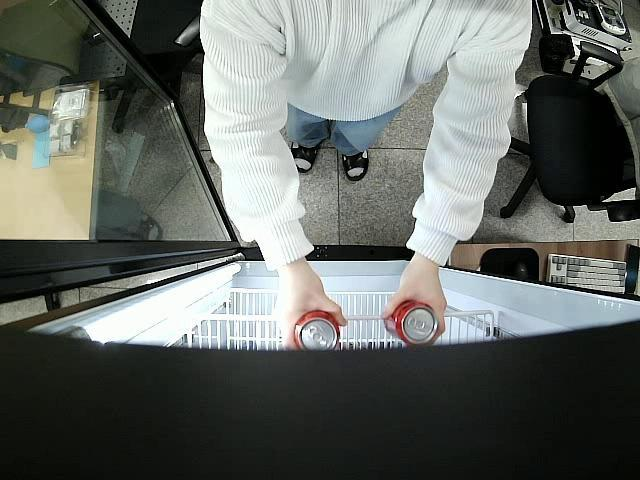11_cocaColaZero: (382, 298, 438, 342), (292, 308, 341, 347)
